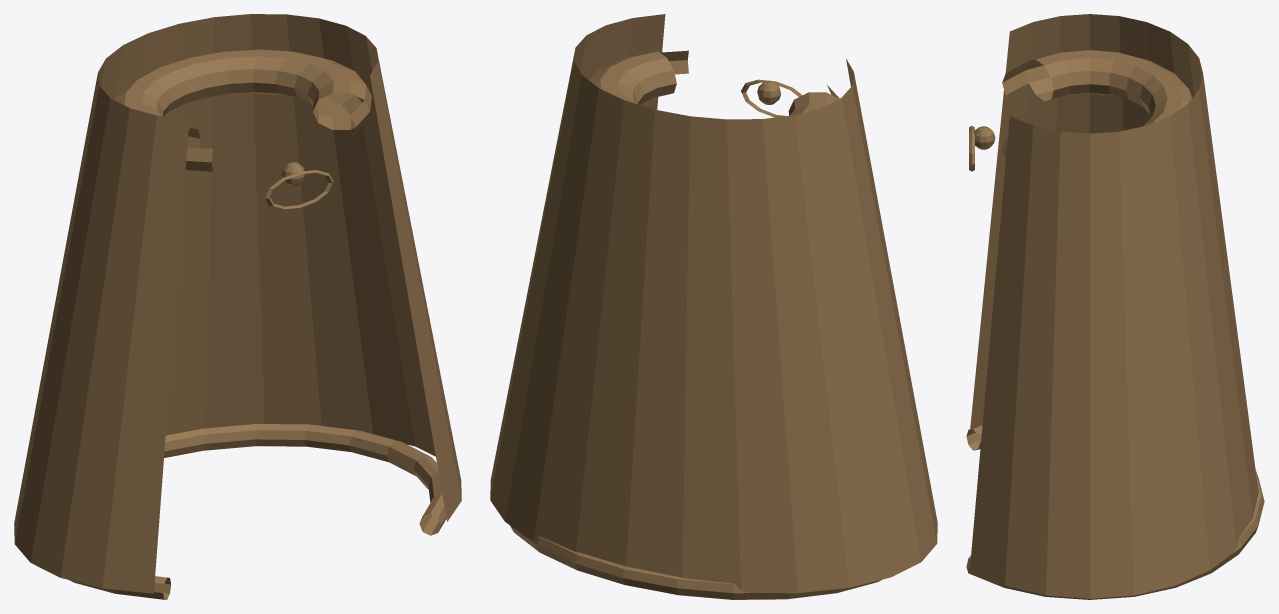
Rendered from fur_cloak.fbx.
3 views of the same model, side by side, from view 1: azimuth 30°, elevation 25°; view 2: azimuth 150°, elevation 25°; view 3: azimuth 270°, elevation 25° (orthographic). The views are drawn at different scales.
Parts seen in each view (by area): view 1: fur_cloak; view 2: fur_cloak; view 3: fur_cloak.
Boxes of the visible parts, <box> form: fur_cloak: <box>14,14,461,599</box>; fur_cloak: <box>490,14,937,599</box>; fur_cloak: <box>966,14,1264,599</box>.
Bounding box in the file's own units: 0.78 × 0.82 × 0.5053.
